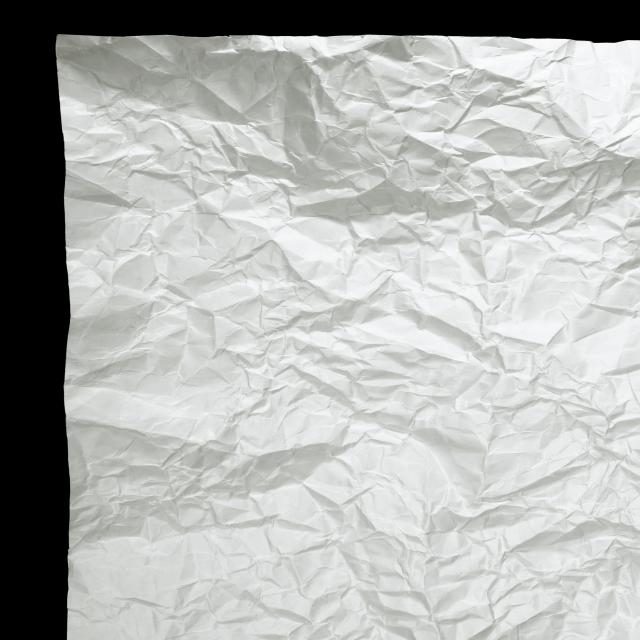paper: (122, 136, 590, 579)
